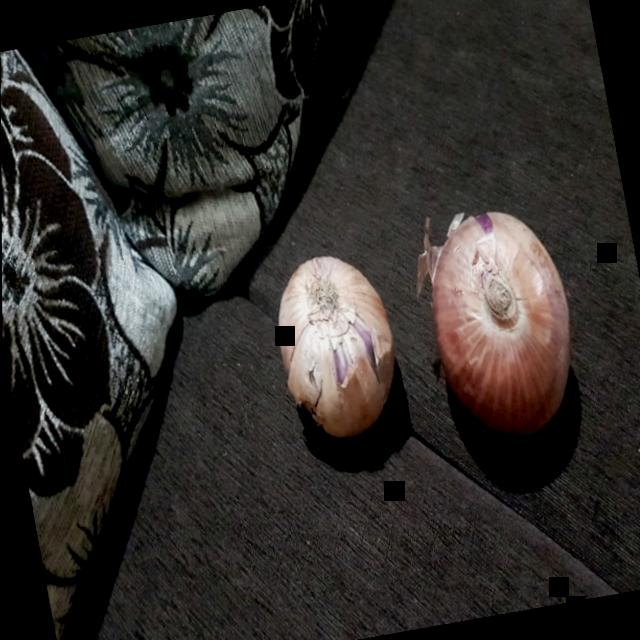onion: (402, 183, 597, 456), (249, 232, 420, 457)
